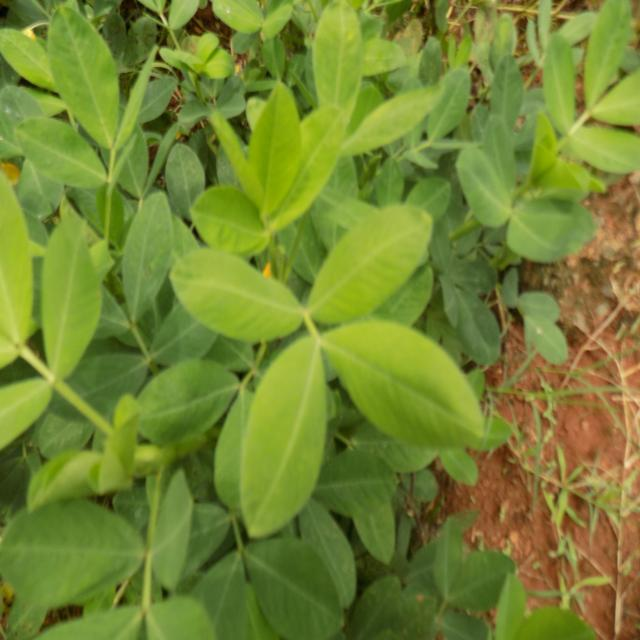Ground nut_healthy: (320, 330, 490, 451), (243, 326, 333, 538), (311, 208, 439, 320), (0, 504, 140, 598), (164, 250, 298, 346), (233, 540, 346, 640), (40, 206, 102, 382), (122, 360, 236, 438), (504, 182, 602, 270), (442, 122, 515, 224), (12, 113, 106, 190), (121, 186, 170, 323), (252, 80, 300, 215), (439, 535, 510, 613), (318, 440, 394, 512), (426, 518, 466, 590)
